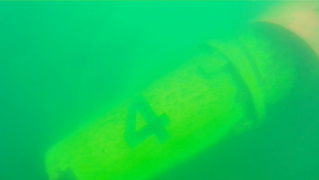4: (128, 99, 169, 142)
leak: (244, 1, 319, 57)
pipe: (44, 23, 319, 180)
